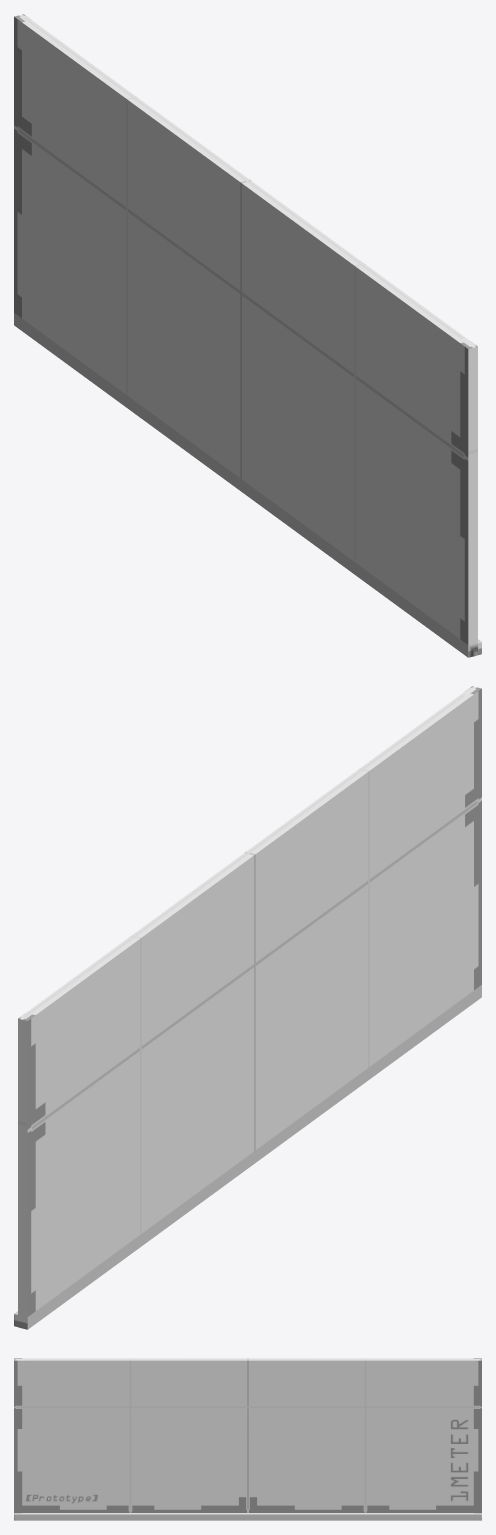
File: wall.fbx
The picture shows the model from 3 angles, top to bottom: view 1: azimuth 30°, elevation 25°; view 2: azimuth 150°, elevation 25°; view 3: azimuth 270°, elevation 25°; orthographic projection. The views are drawn at different scales.
Visible parts, largest first — view 1: WallFront__2_; view 2: WallFront__2_; view 3: WallFront__2_.
Part boxes in pixels (left/top/right/bottom): WallFront__2_: left=14, top=14, right=481, bottom=657; WallFront__2_: left=14, top=686, right=481, bottom=1329; WallFront__2_: left=14, top=1358, right=481, bottom=1520.
Size of the model in its own units: 0.7114 by 15 by 40.
Materials: 2 (1 with a texture image).
